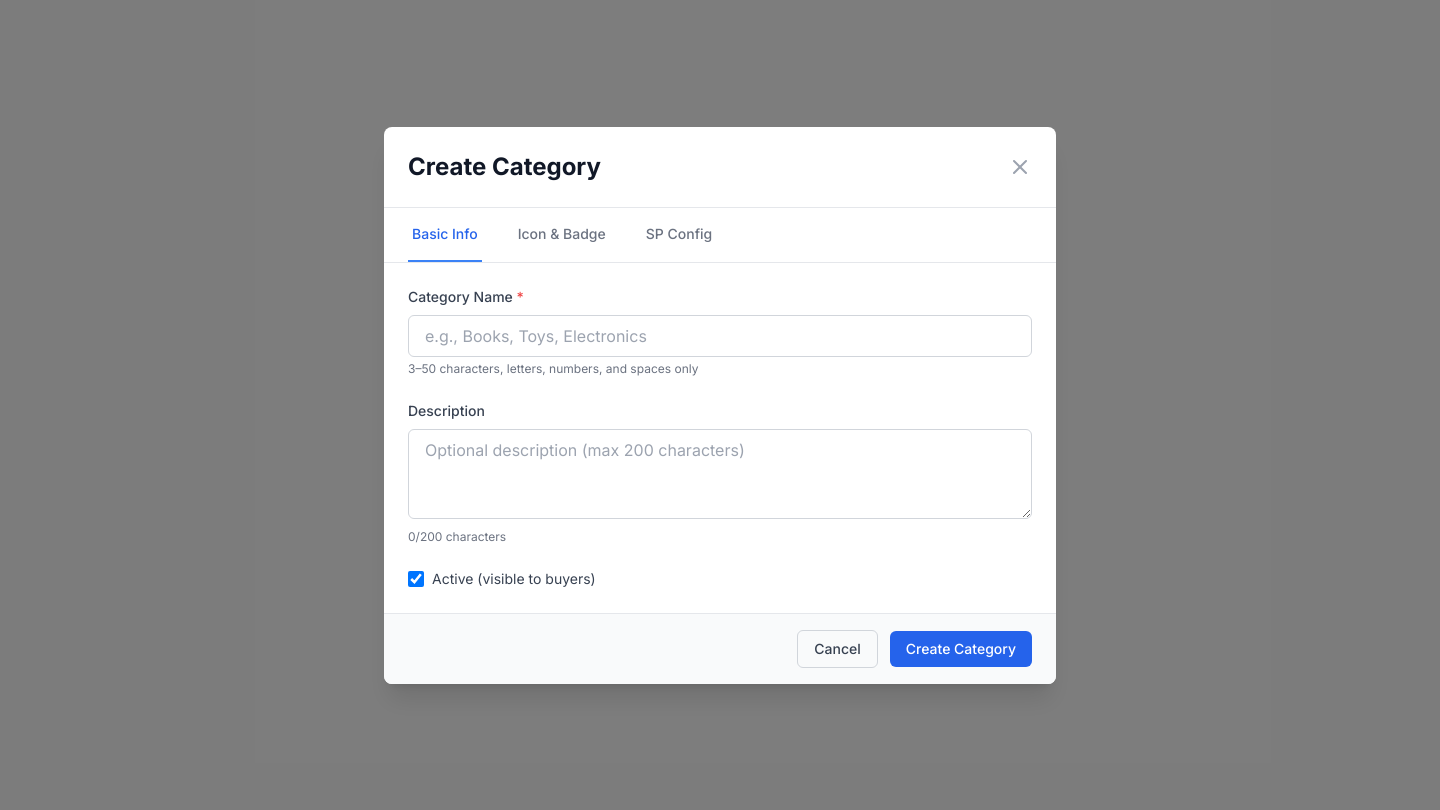
Test: CategoryForm › should switch to SP Config tab when clicked
Click the button "SP Config".
click(679, 234)  # box [642,208,716,262]
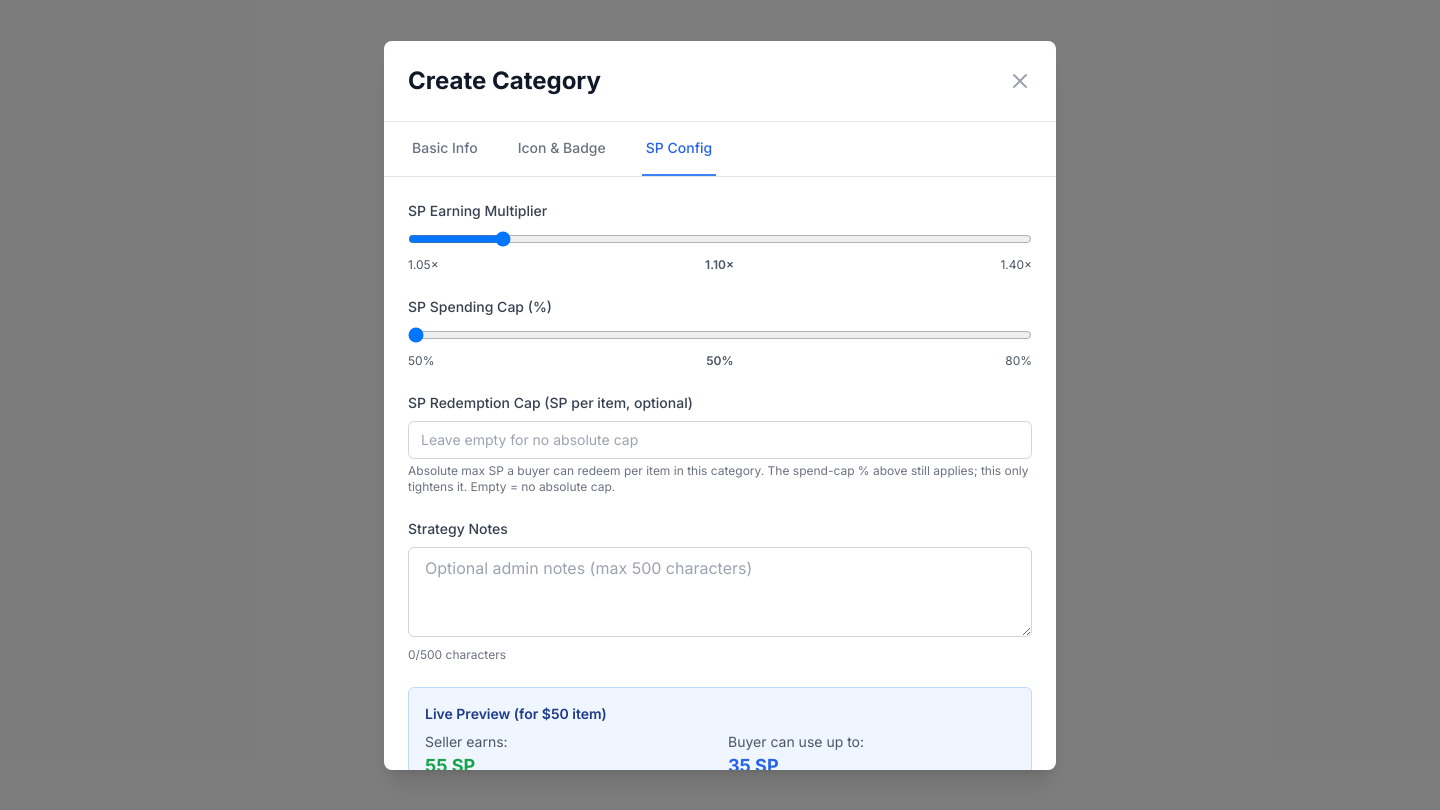
Result: the text "SP Earning Multiplier" is shown at [408,202,547,218]
